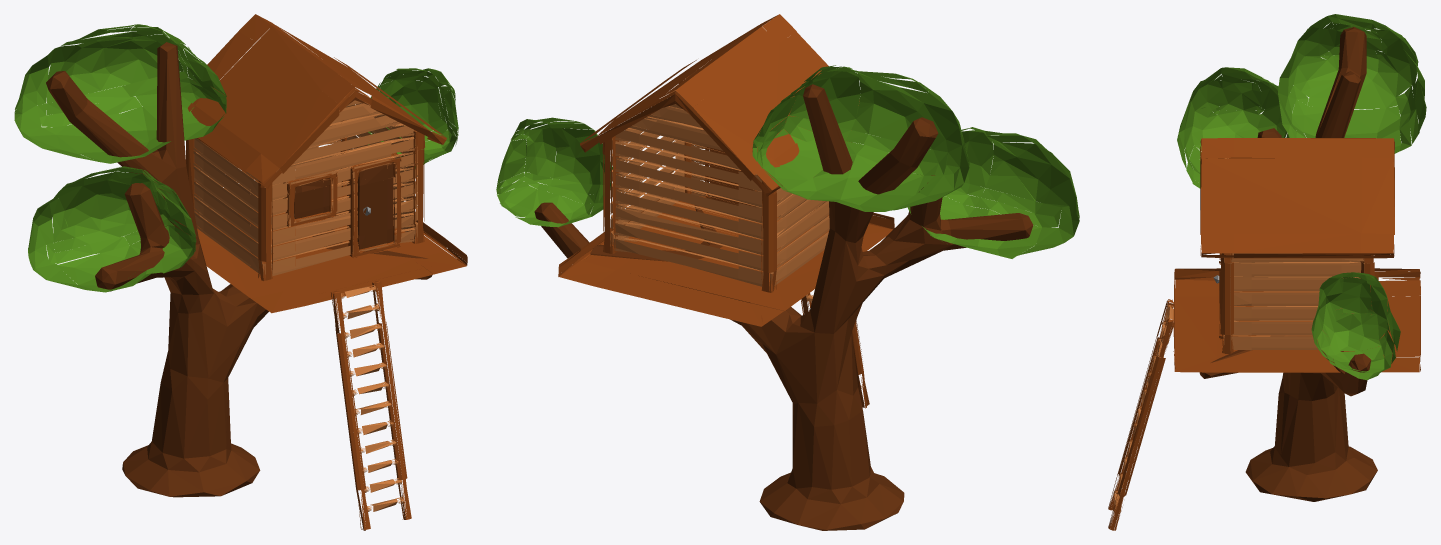
File: casa-arbol.glb
3 renders of one model, left to right at view 1: azimuth 30°, elevation 25°; view 2: azimuth 150°, elevation 25°; view 3: azimuth 270°, elevation 25°, orthographic. The views are drawn at different scales.
Parts seen in each view (by area): view 1: casa-arbol; view 2: casa-arbol; view 3: casa-arbol.
Boxes of the visible parts, <box> form: casa-arbol: <box>14,14,467,530</box>; casa-arbol: <box>496,14,1079,530</box>; casa-arbol: <box>1108,14,1426,530</box>.
Bounding box in the file's own units: 1.44 × 1.25 × 0.8426.
